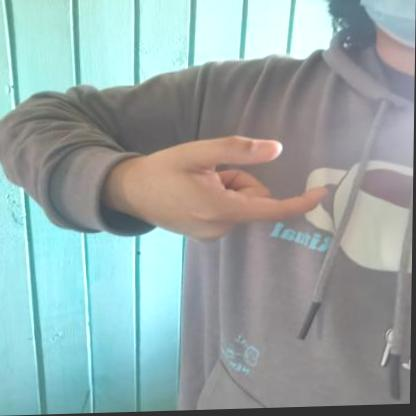G: (132, 120, 336, 259)
